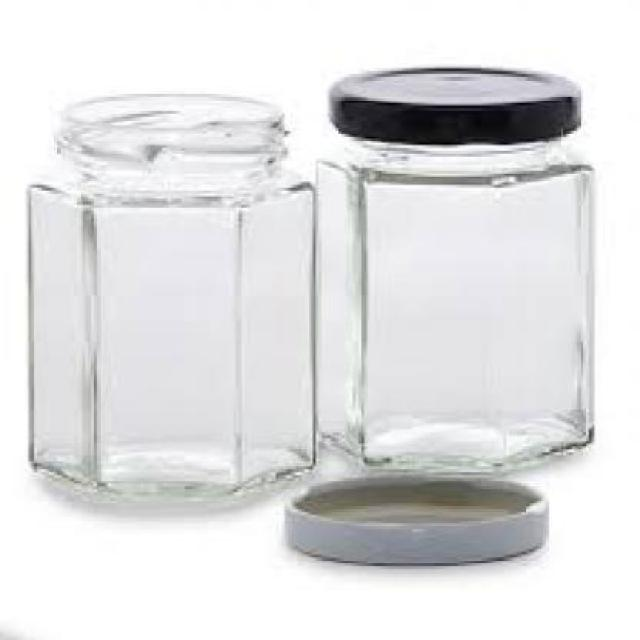GLASS: (29, 94, 318, 494), (318, 131, 600, 469)
METAL: (290, 469, 552, 560), (333, 62, 582, 146)
